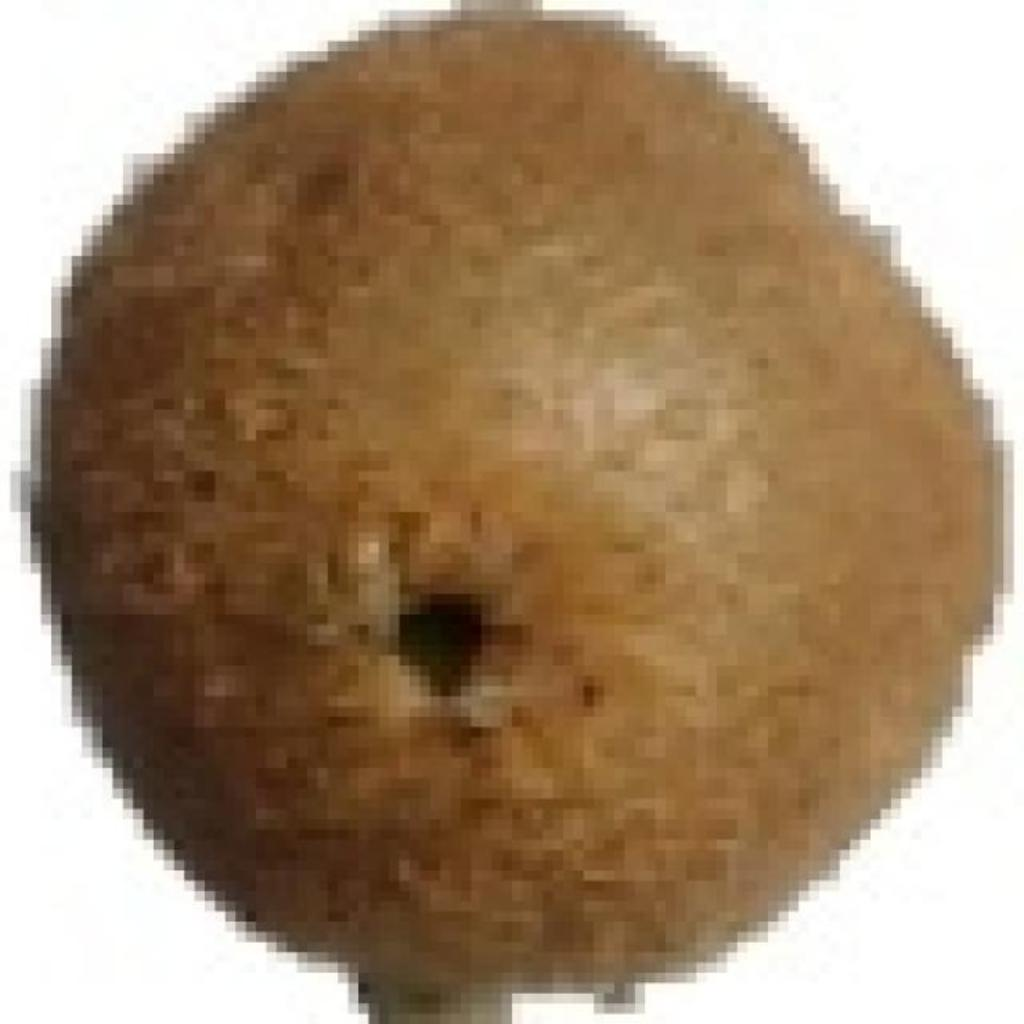kiwi: (41, 16, 999, 1022)
